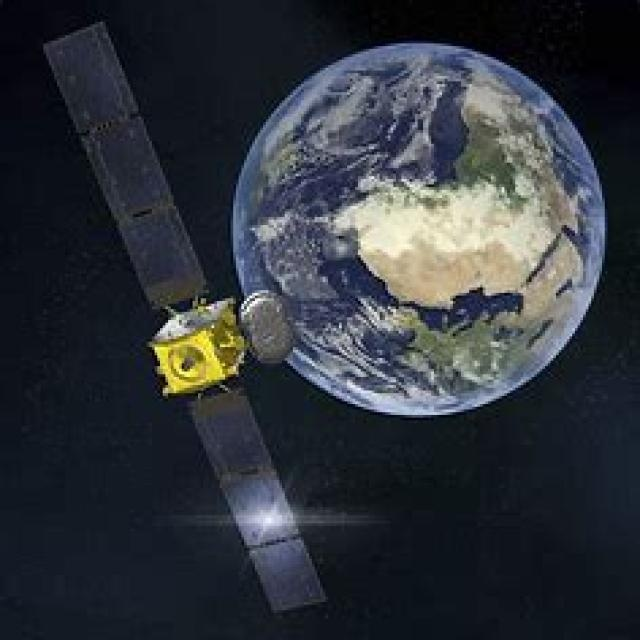satellite: (27, 1, 346, 630)
